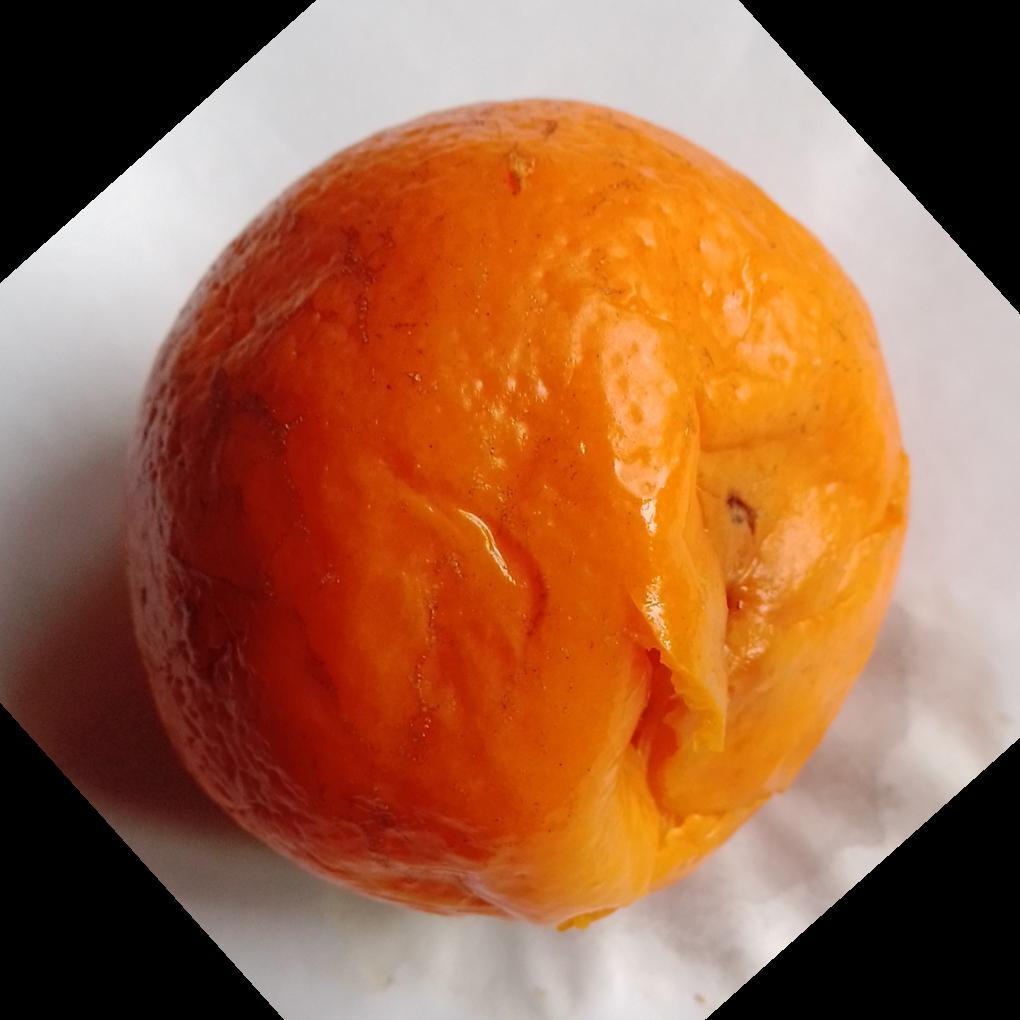FreshOrange: (120, 98, 913, 938)
